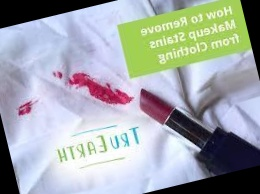lipstick: (65, 66, 107, 99), (88, 80, 126, 113), (99, 87, 134, 110), (14, 98, 44, 124), (49, 66, 67, 84)
